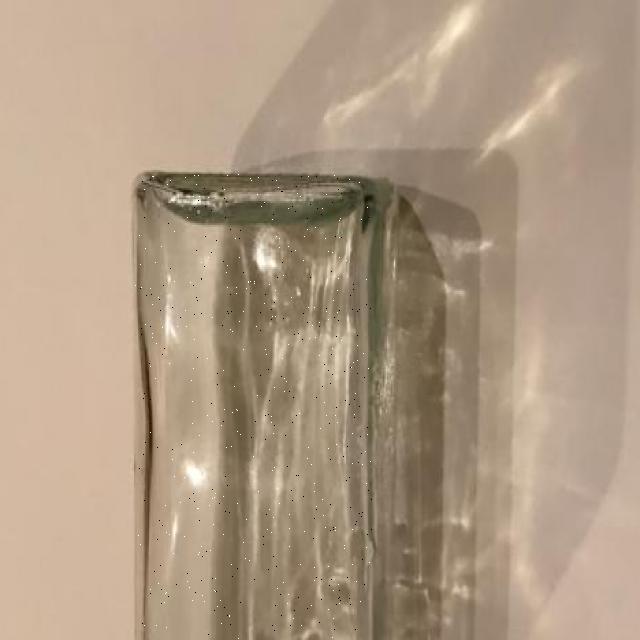glass: (136, 174, 372, 640)
